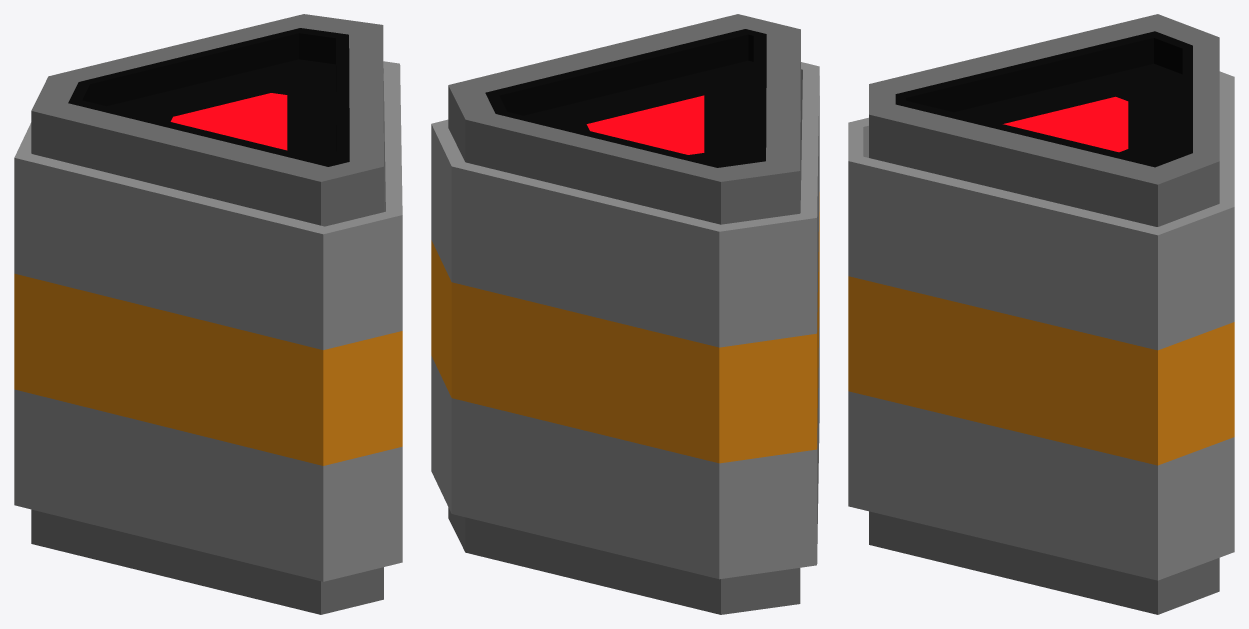
File: Environment2_Cover_CoilBox1.fbx
3 views of the same model, side by side, from view 1: azimuth 30°, elevation 25°; view 2: azimuth 150°, elevation 25°; view 3: azimuth 270°, elevation 25° (orthographic).
Parts seen in each view (by area): view 1: Cell Panel.002, Cell Frame, Cell Panel; view 2: Cell Panel.001, Cell Frame, Cell Panel, Cell Panel.002; view 3: Cell Panel, Cell Frame, Cell Panel.001, Cell Panel.002.
Part boxes in pixels (<box>): Cell Panel.002: <box>14,154,402,581</box>; Cell Frame: <box>31,14,383,614</box>; Cell Panel: <box>383,61,402,214</box>; Cell Panel.001: <box>451,162,816,579</box>; Cell Frame: <box>448,14,800,614</box>; Cell Panel: <box>431,119,465,513</box>; Cell Panel.002: <box>800,62,819,563</box>; Cell Panel: <box>848,156,1234,580</box>; Cell Frame: <box>869,14,1219,614</box>; Cell Panel.001: <box>1219,71,1234,206</box>; Cell Panel.002: <box>848,117,868,160</box>.
Bounding box in the file's own units: 659 × 707 × 575.
